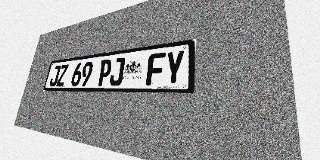6: (70, 62, 84, 86)
9: (79, 61, 94, 86)
F: (146, 52, 166, 85)
J: (109, 57, 126, 86), (49, 65, 61, 86)
P: (97, 59, 113, 86)
Y: (164, 50, 185, 85)
Z: (56, 64, 69, 86)
